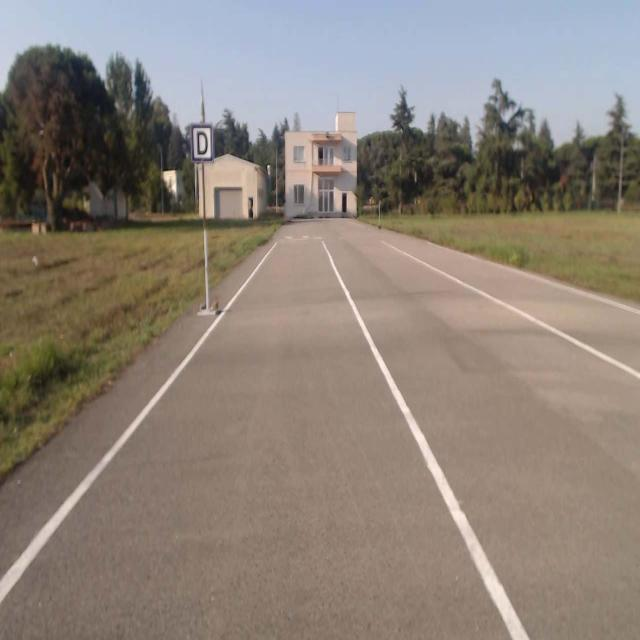durak: (191, 125, 213, 162)
